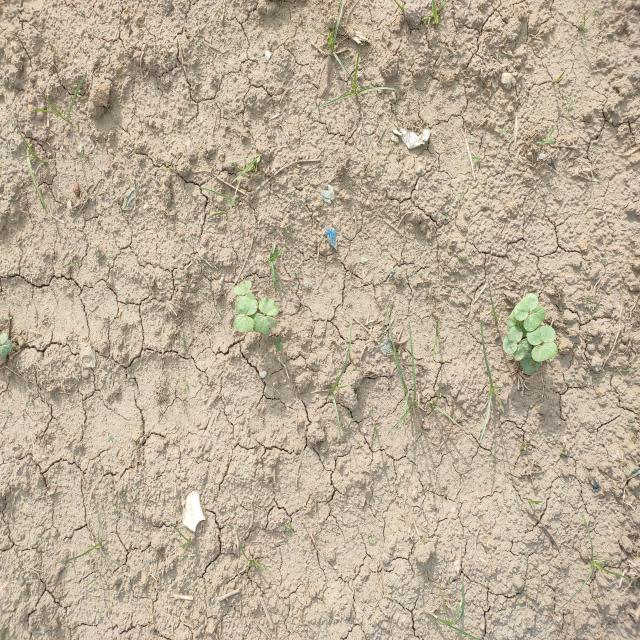seedling: (513, 293, 539, 321), (523, 306, 546, 332), (503, 327, 523, 355), (252, 313, 276, 334), (513, 338, 531, 361), (235, 300, 259, 316), (258, 298, 279, 316), (520, 351, 536, 373), (234, 316, 254, 332), (507, 310, 522, 330), (233, 280, 252, 295), (235, 293, 255, 305)
